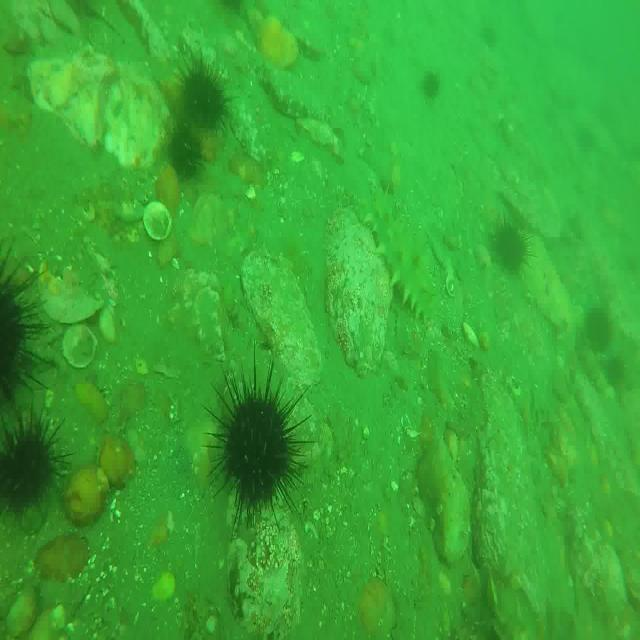echinus: (214, 378, 300, 520), (0, 257, 44, 409), (0, 415, 63, 512), (181, 52, 229, 134), (166, 123, 205, 184), (496, 220, 528, 274), (587, 302, 612, 355), (609, 351, 630, 396), (421, 70, 440, 104)
holothurian: (368, 192, 439, 322)
scallop: (62, 324, 97, 371), (142, 204, 175, 240), (447, 272, 458, 300)
